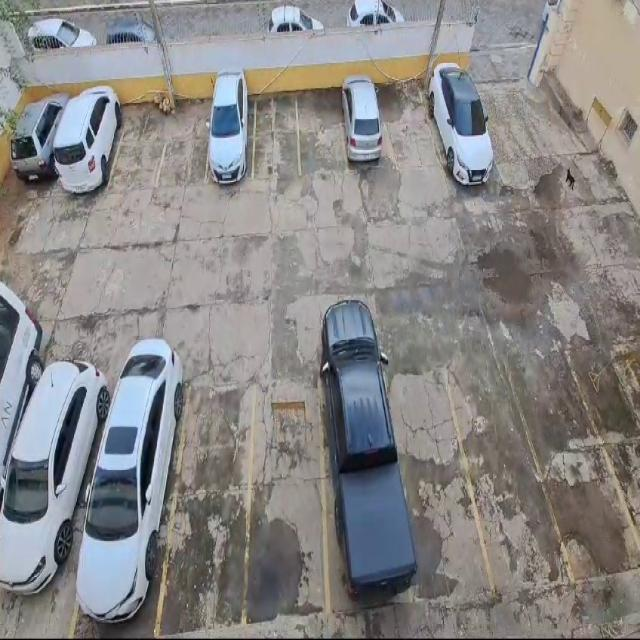empty: (500, 339, 639, 577), (444, 348, 572, 584), (392, 351, 496, 600), (158, 370, 255, 635), (245, 363, 330, 621), (381, 76, 445, 183), (109, 104, 169, 187), (294, 87, 348, 178), (159, 98, 211, 185), (252, 92, 298, 178)
notEmpty: (0, 355, 119, 639), (67, 370, 191, 637), (319, 344, 417, 612), (418, 70, 502, 191), (50, 95, 130, 198), (0, 88, 68, 195), (336, 78, 393, 173), (206, 88, 257, 193)
